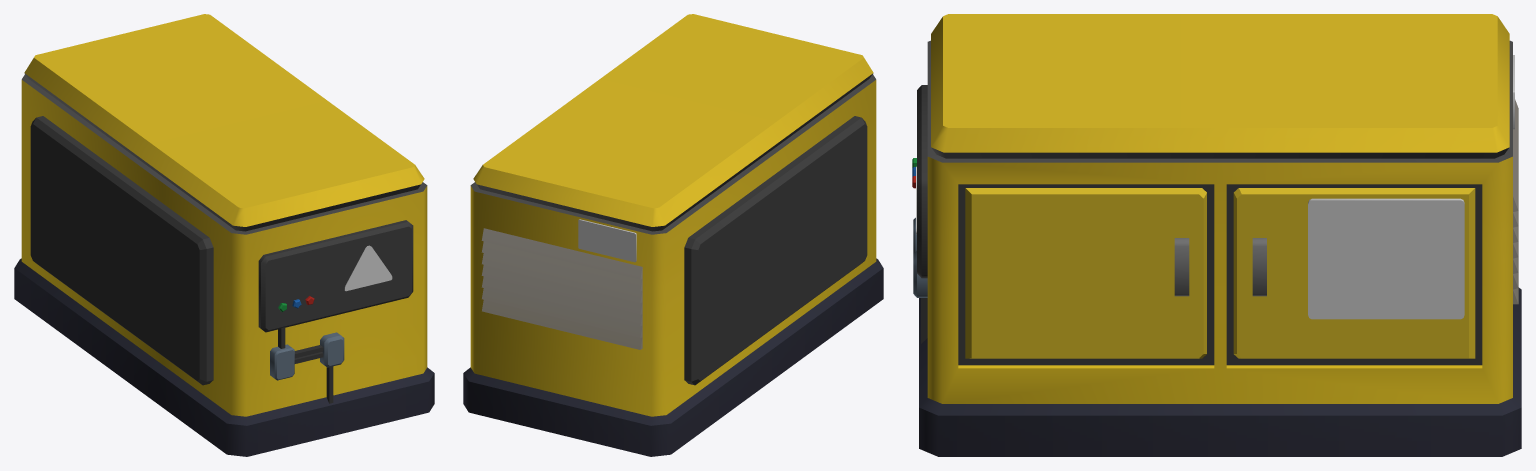
Rendered from Generator_1_A.fbx.
3 renders of one model, left to right at view 1: azimuth 30°, elevation 25°; view 2: azimuth 150°, elevation 25°; view 3: azimuth 270°, elevation 25°, orthographic. The views are drawn at different scales.
Visible parts, largest first — view 1: Generator_1_A; view 2: Generator_1_A; view 3: Generator_1_A.
Part boxes in pixels (x1,y1,x2,y2): Generator_1_A: (14,14,434,456); Generator_1_A: (463,14,883,456); Generator_1_A: (912,14,1521,456).
Size of the model in its own units: 162 by 174 by 301.
